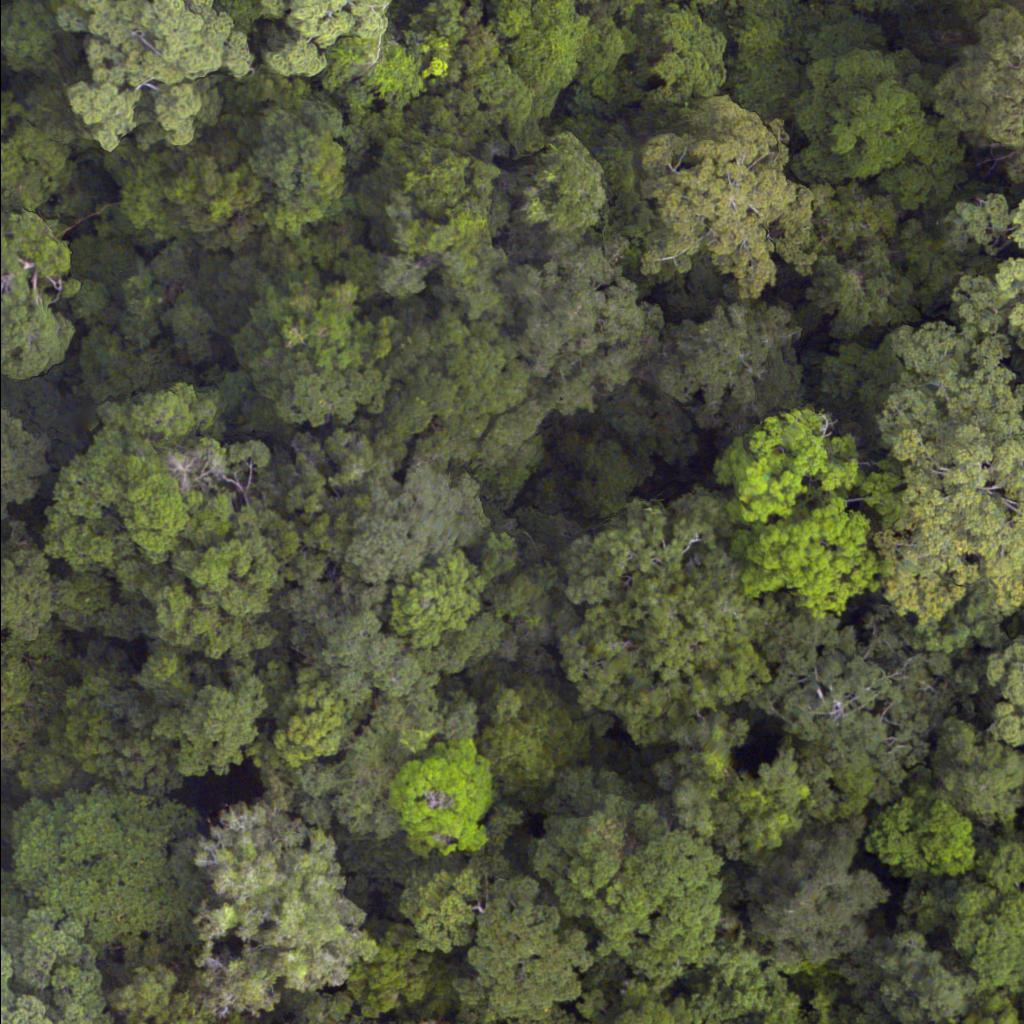crown: (55, 392, 304, 653), (565, 484, 781, 736), (873, 318, 1023, 649), (0, 771, 238, 969), (707, 401, 887, 627), (748, 613, 952, 805), (654, 90, 824, 320), (548, 793, 727, 968), (51, 0, 247, 151), (736, 828, 888, 965), (921, 831, 1023, 1011), (520, 263, 654, 399), (467, 887, 600, 1023), (245, 82, 350, 235), (464, 678, 600, 786), (391, 744, 503, 861), (952, 192, 1023, 365), (0, 217, 69, 384), (864, 790, 979, 883), (0, 951, 125, 1023), (386, 558, 487, 646), (936, 730, 1023, 831), (977, 643, 1023, 770), (0, 417, 47, 512)
